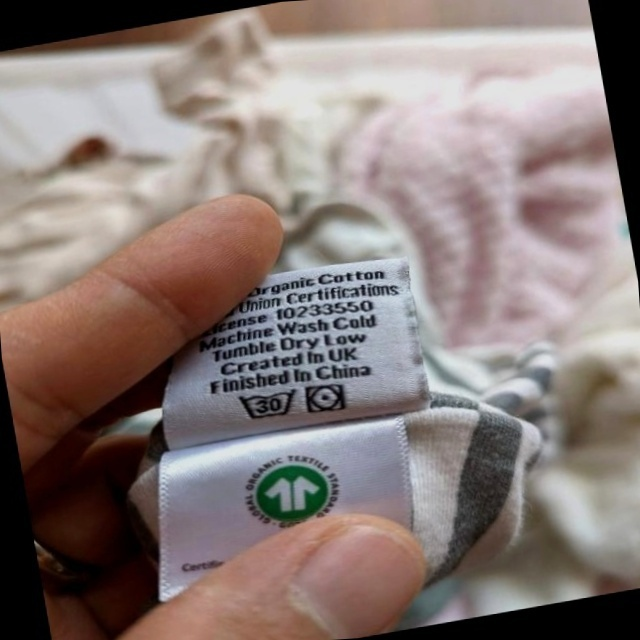30C: (232, 382, 303, 427)
tumble_dry_low: (301, 377, 351, 420)
